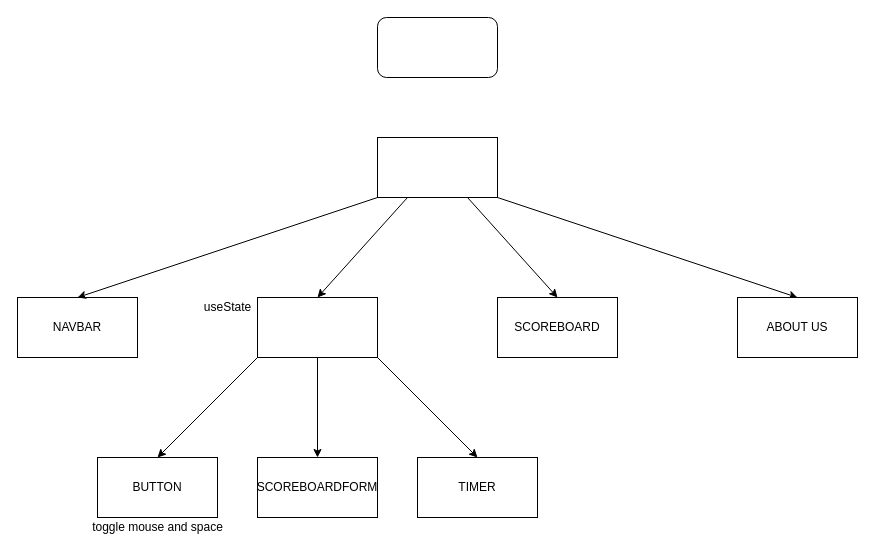
The diagram is 875 pixels wide and 555 high, and some of its shapes have lost their labels. Here are the shapes that lost their labels. From the top down, the centre of each, then its label:
the point at 437,47: CLICK GAME (PLACEHOLDER)
the point at 437,167: APP
the point at 317,327: DISPLAY
